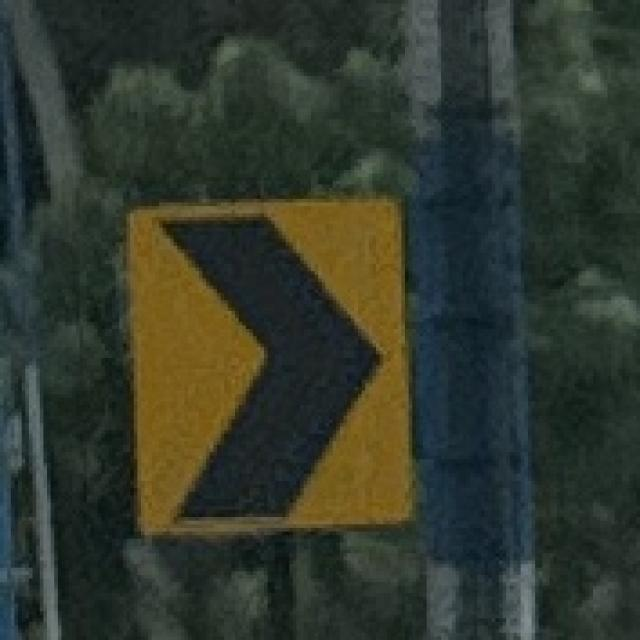TURN_RIGHT: (116, 188, 425, 540)
